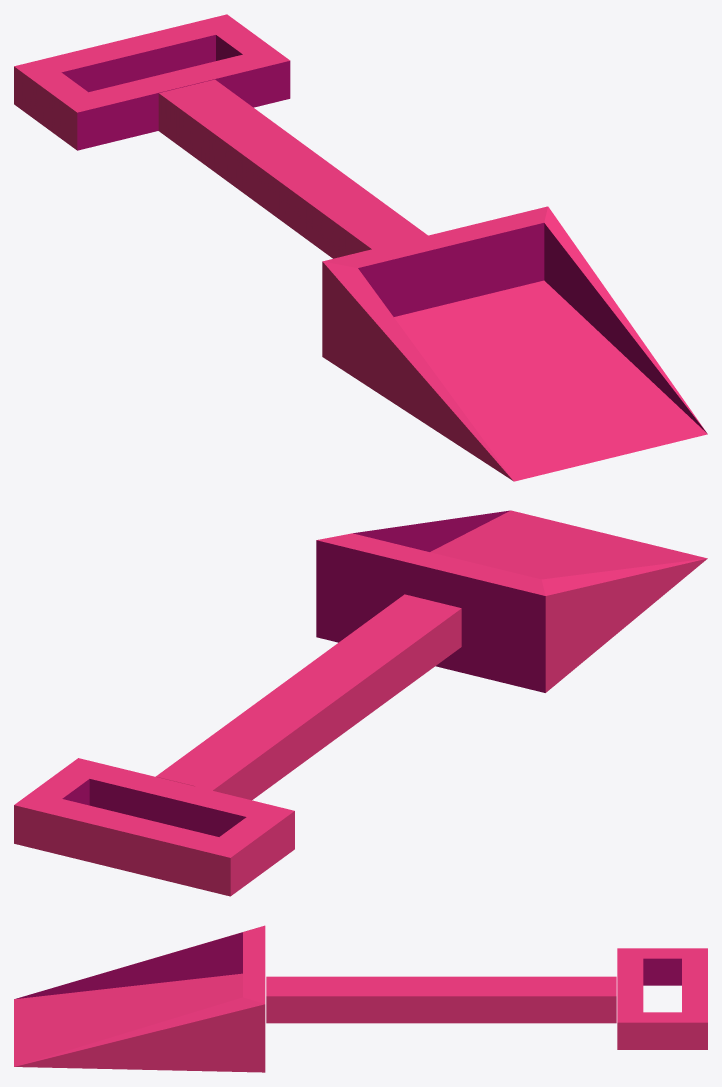
Rendered from Toy_Shovel_01.FBX.
The picture shows the model from 3 angles, top to bottom: view 1: azimuth 30°, elevation 25°; view 2: azimuth 150°, elevation 25°; view 3: azimuth 270°, elevation 25°; orthographic projection. The views are drawn at different scales.
Visible parts, largest first — view 1: Toy_Shovel_01; view 2: Toy_Shovel_01; view 3: Toy_Shovel_01.
Part boxes in pixels (left/top/right/bottom): Toy_Shovel_01: left=14, top=14, right=707, bottom=481; Toy_Shovel_01: left=14, top=510, right=707, bottom=896; Toy_Shovel_01: left=14, top=925, right=707, bottom=1072.
Size of the model in its own units: 0.1558 by 0.5799 by 0.063.
